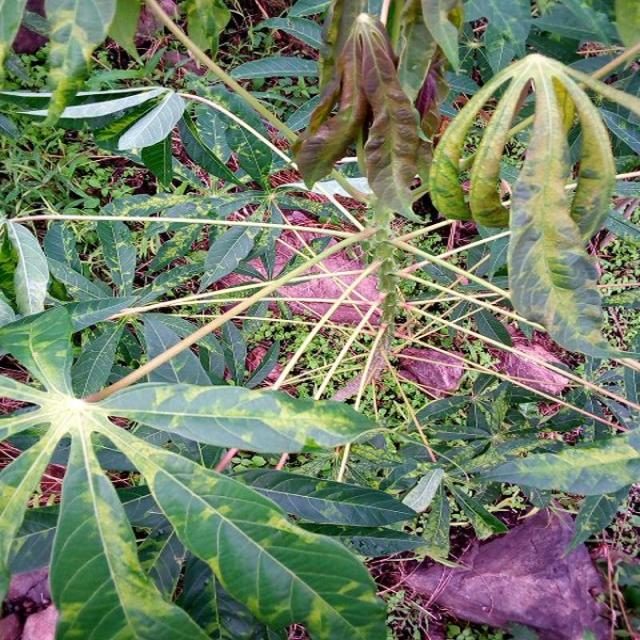Mosaico: (26, 285, 412, 612), (459, 31, 637, 327), (312, 20, 472, 235)
